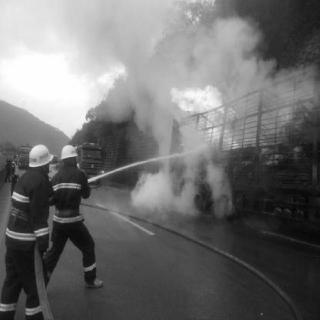Fire: (170, 84, 242, 148)
Smoke: (72, 11, 246, 83), (113, 88, 161, 132), (131, 170, 185, 204), (208, 161, 234, 197)
